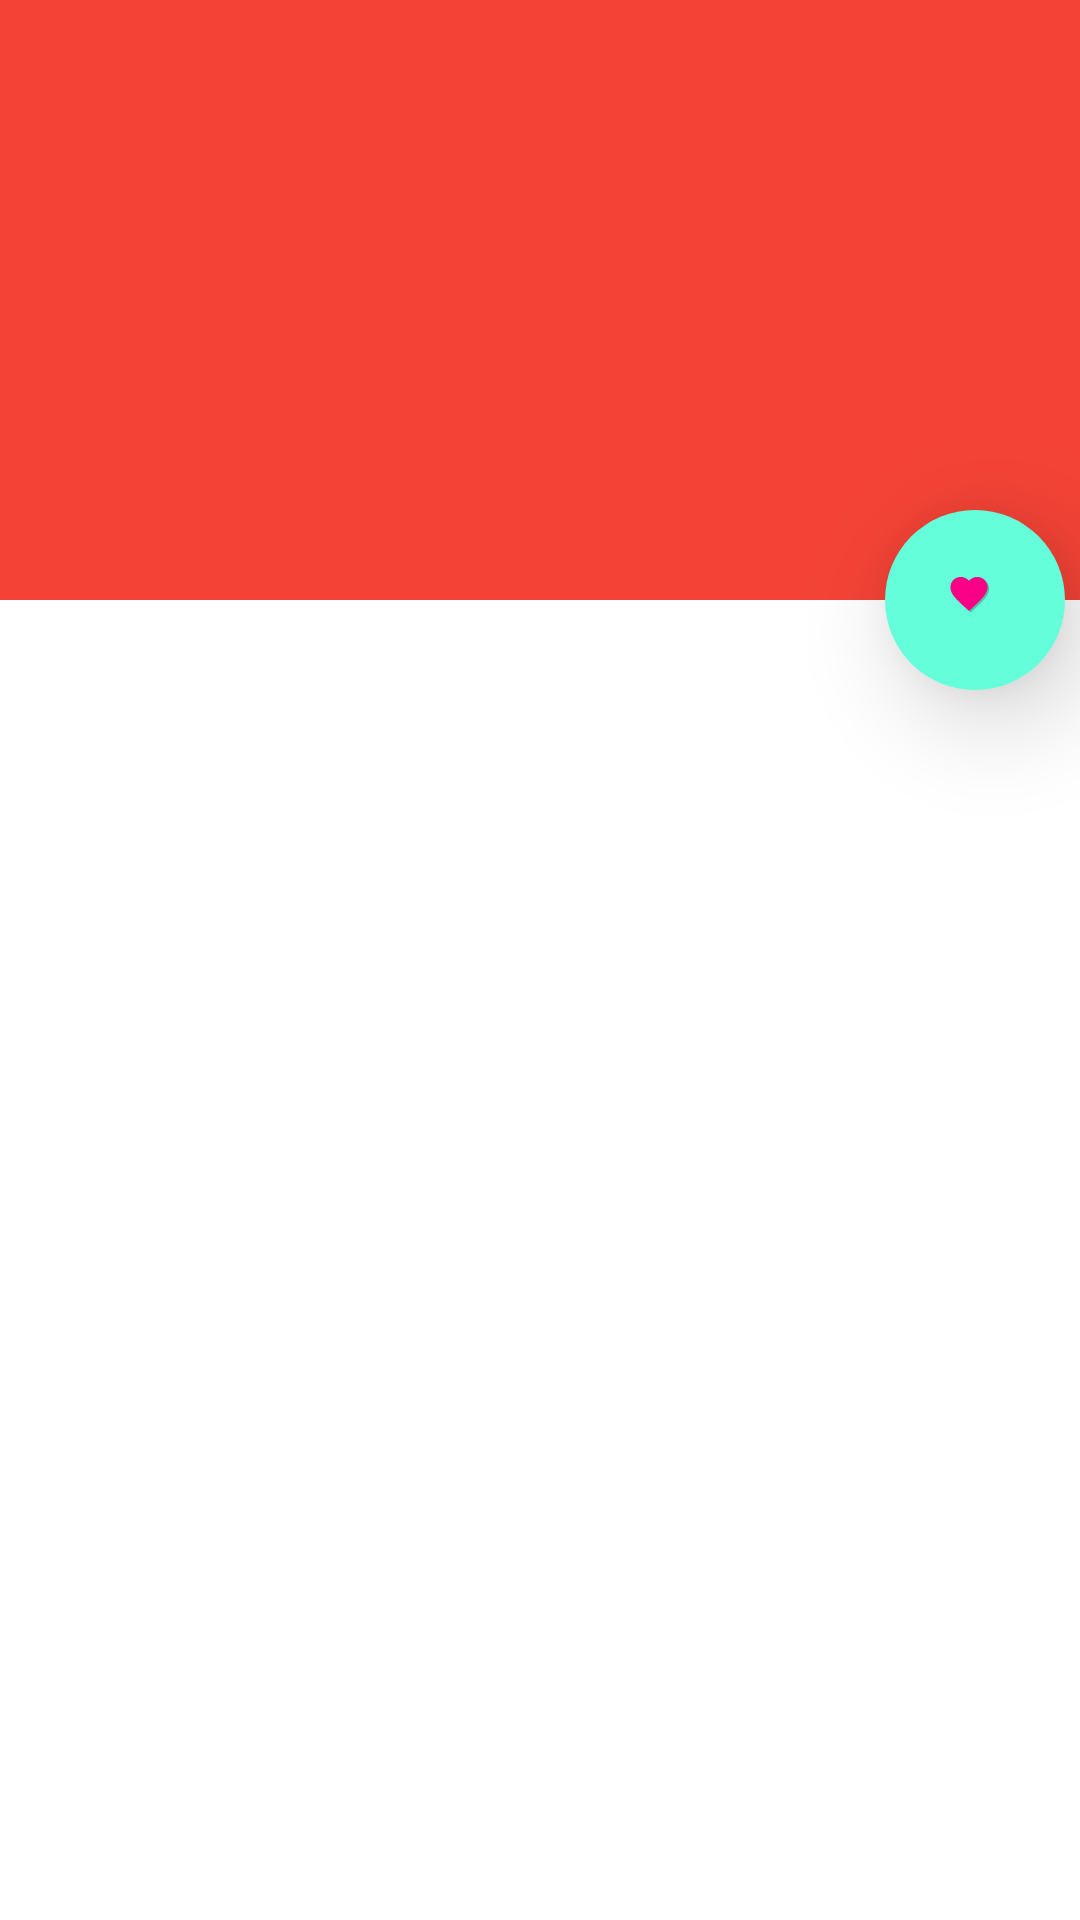

Icon click points for this 1080px x 1920px phone screenshot, format [x,y]:
heart fav: [975,600]
